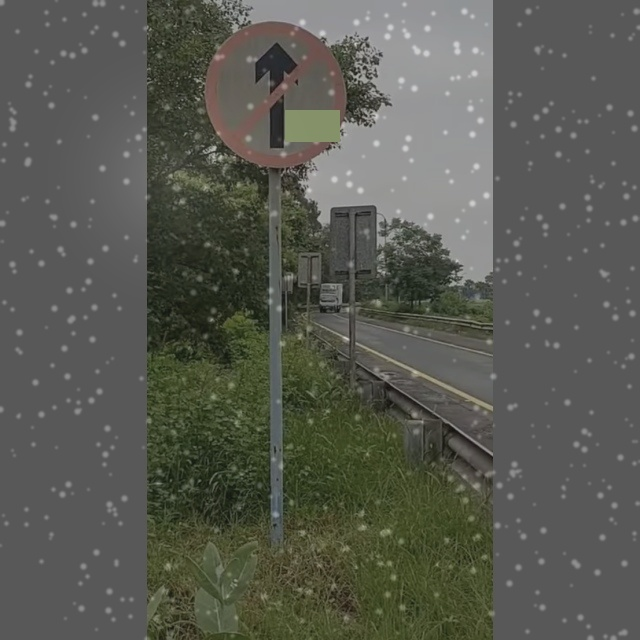No_Entry: (204, 24, 349, 166)
